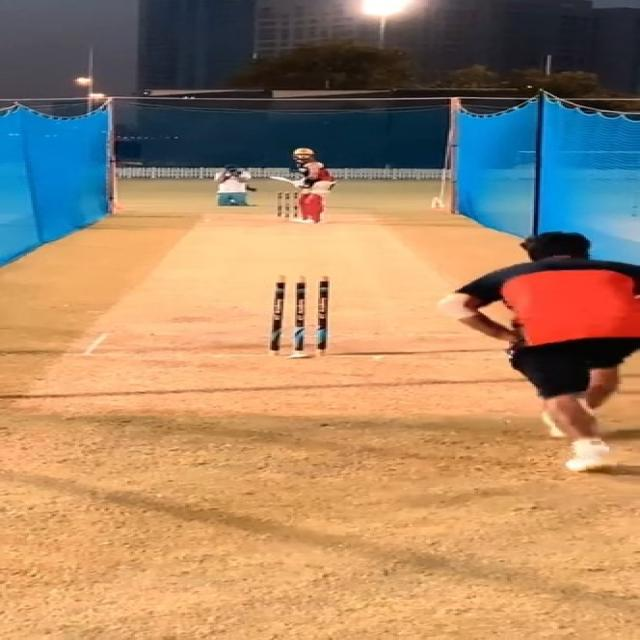batsman: (268, 148, 338, 225)
